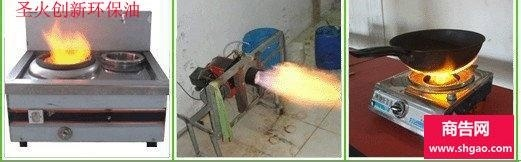fire: (256, 60, 342, 106), (40, 23, 91, 64), (426, 60, 458, 84)
